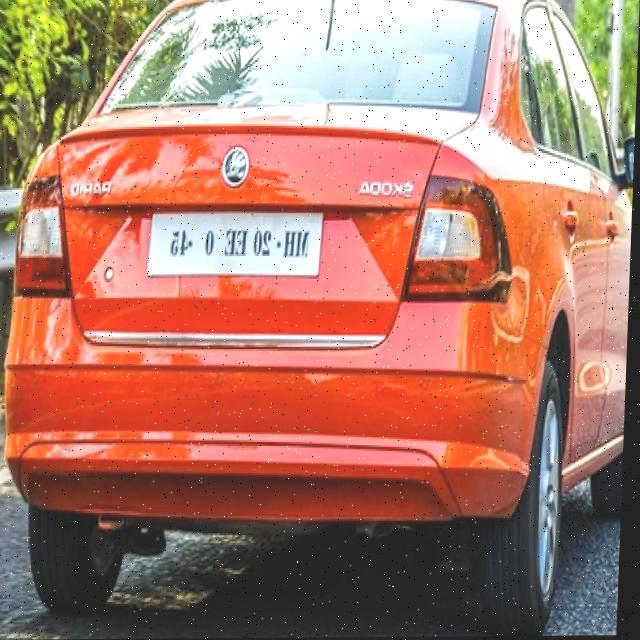plate: (149, 208, 327, 279)
